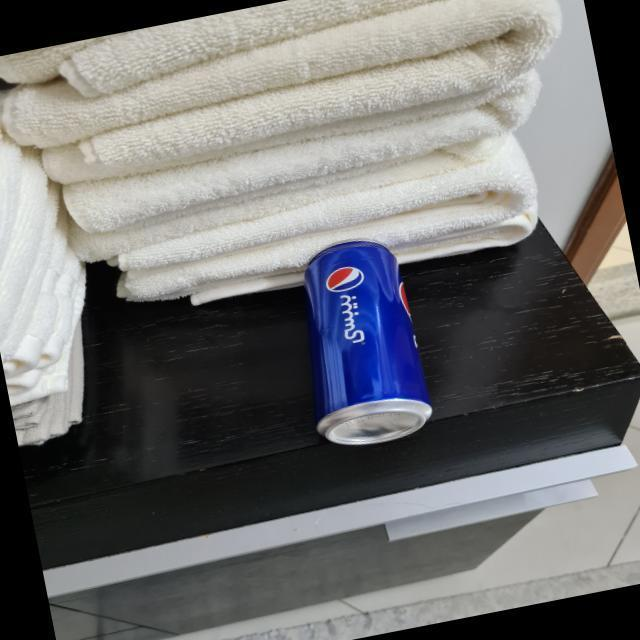can: (285, 225, 443, 452)
